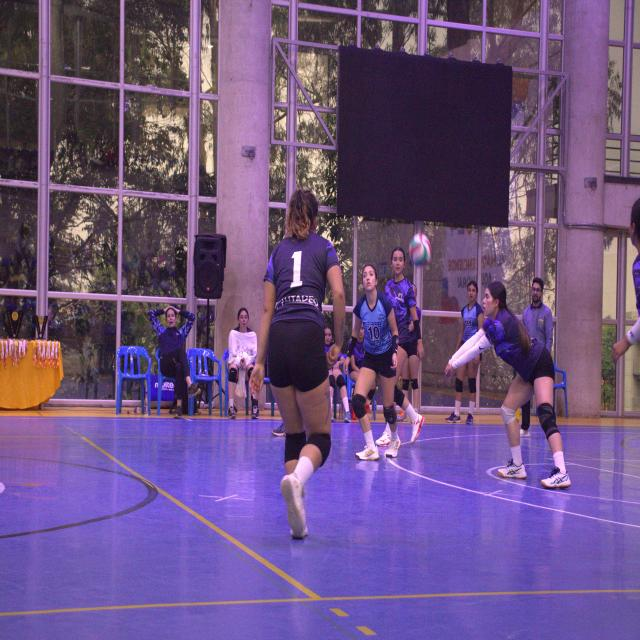volleyball: (409, 233, 431, 267)
